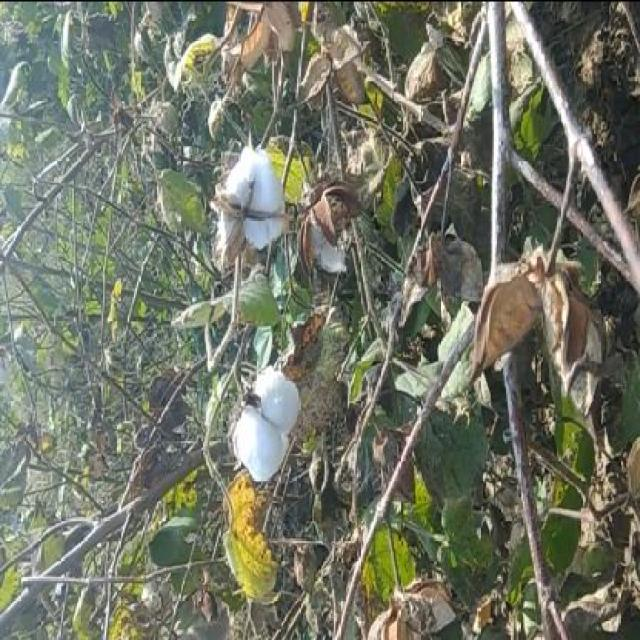cotton_ready: (209, 347, 306, 501), (209, 123, 300, 274)
